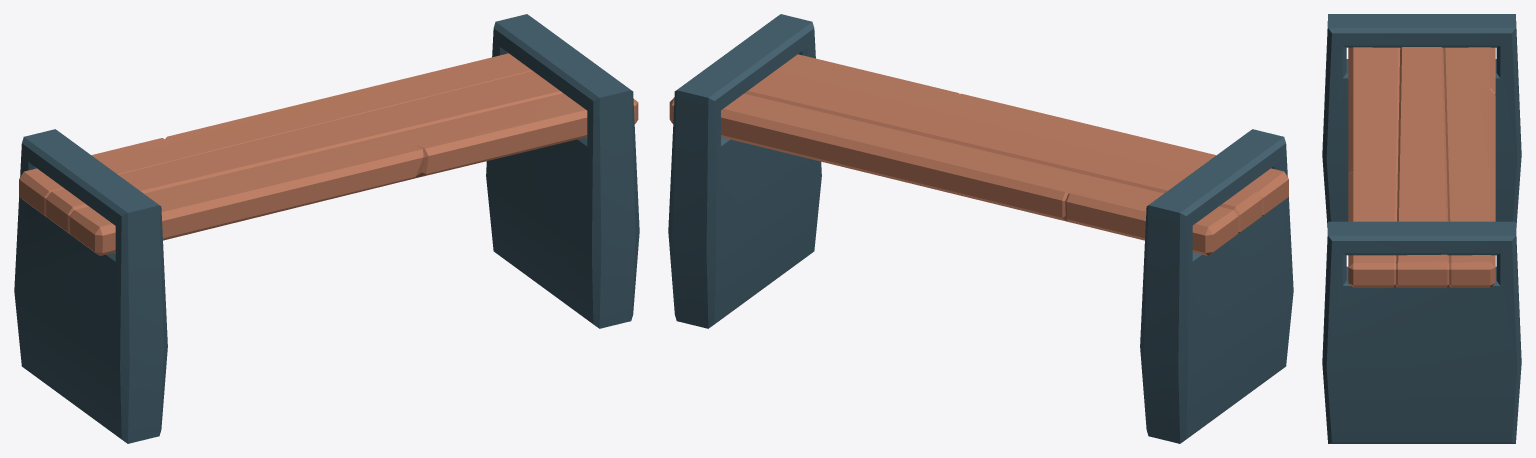
The model's file is bench_c002.glb.
3 renders of one model, left to right at view 1: azimuth 30°, elevation 25°; view 2: azimuth 150°, elevation 25°; view 3: azimuth 270°, elevation 25°, orthographic. The views are drawn at different scales.
Visible parts, largest first — view 1: bench_c002; view 2: bench_c002; view 3: bench_c002.
Boxes of the visible parts, bbox=[...] form: bench_c002: bbox=[14, 14, 639, 443]; bench_c002: bbox=[668, 14, 1293, 443]; bench_c002: bbox=[1322, 14, 1521, 443].
Bounding box in the file's own units: 1.34 × 0.5449 × 0.4716.
Materials: 1 (1 with a texture image).
